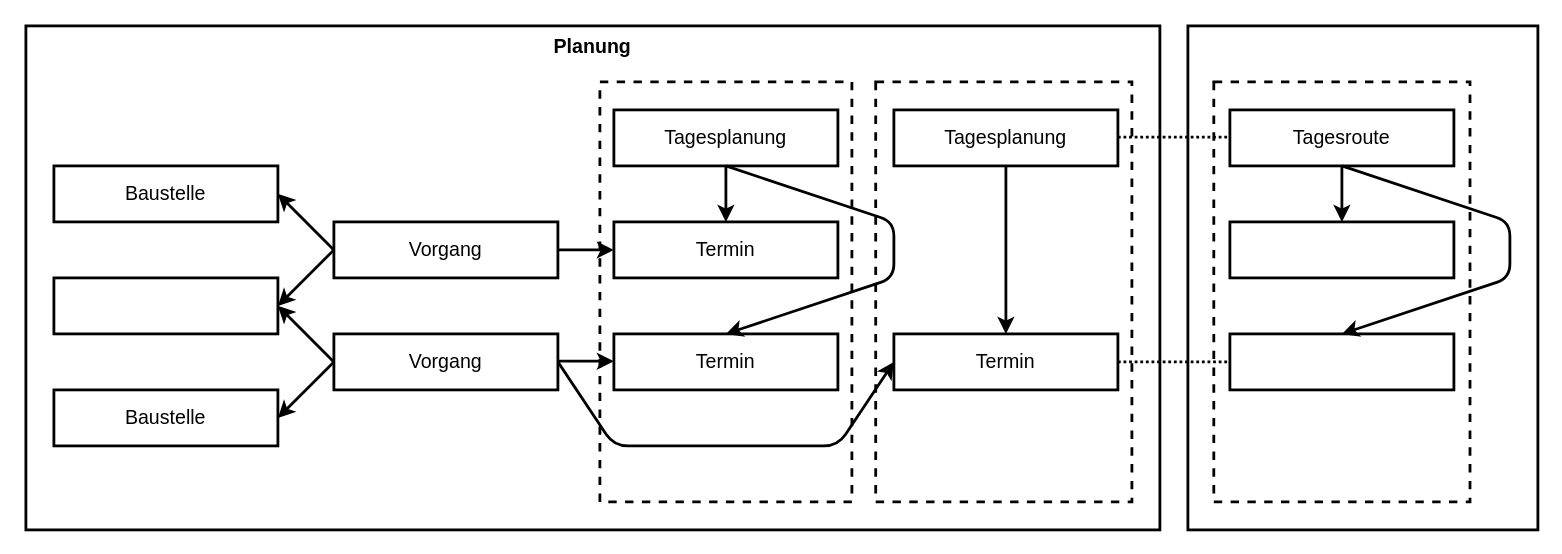
Some shapes in this 1562 by 554 pixel diagram are drawn without their labels. The shapes that lost their labels are listed below. From the top down, each one's box as (x1, y1, x2, y2) in pixels, then its label:
(1228, 220, 1455, 279): Tankstellen-Halt
(1186, 24, 1539, 531): Navigation
(52, 276, 279, 335): Kontakt
(1228, 332, 1455, 391): Halt
